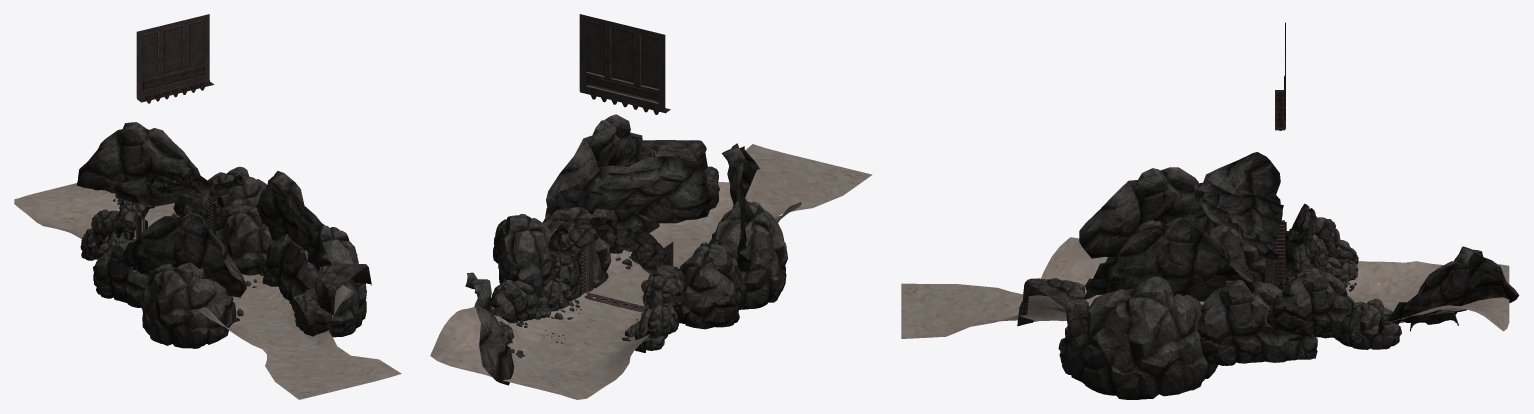
The model's file is env_tat_jthgl_p03_pre.glb.
3 renders of one model, left to right at view 1: azimuth 30°, elevation 25°; view 2: azimuth 150°, elevation 25°; view 3: azimuth 270°, elevation 25°, orthographic. The views are drawn at different scales.
Parts seen in each view (by area): view 1: tat_ranc_ground_01b_mesh, tat_ranc_rock_01 (1), tat_ranc_gate_01, tat_ranc_rockcave (1), tat_ranc_rockcave (7), tat_ranc_rock_01 (5), tat_ranc_ground_01c_mesh, tat_ranc_rockcave (5), tat_ranc_rock_01 (6), tat_ranc_rockcave (6), tat_ranc_rock_01 (2), tat_ranc_rockarch (+5 smaller); view 2: tat_ranc_ground_01b_mesh, tat_ranc_ground_01c_mesh, tat_ranc_rockcave (6), tat_ranc_gate_01, tat_ranc_ground_01a_mesh, tat_ranc_rockarch, tat_ranc_rock_01 (1), tat_ranc_rock_01 (2), tat_ranc_rockcave (5), tat_ranc_rock_01 (9), tat_ranc_rockcave (7), tat_ranc_rockcave (1) (+9 smaller); view 3: tat_ranc_rock_01 (5), tat_ranc_ground_01b_mesh, tat_ranc_rockcave (5), tat_ranc_rock_01 (6), tat_ranc_rockcave (1), tat_ranc_rockcave (6), tat_ranc_rockcave (7), tat_ranc_rock_01 (9), tat_ranc_ground_01c_mesh, tat_ranc_rockarch, tat_ranc_rock_01 (8), tat_ranc_rock_02 (4) (+4 smaller).
Boxes of the visible parts, x1=… form: tat_ranc_ground_01b_mesh: x1=198, y1=274, x2=401, y2=399; tat_ranc_rock_01 (1): x1=140, y1=263, x2=236, y2=348; tat_ranc_gate_01: x1=136, y1=14, x2=214, y2=103; tat_ranc_rockcave (1): x1=115, y1=213, x2=246, y2=297; tat_ranc_rockcave (7): x1=76, y1=122, x2=200, y2=193; tat_ranc_rock_01 (5): x1=262, y1=223, x2=366, y2=337; tat_ranc_ground_01c_mesh: x1=14, y1=183, x2=175, y2=238; tat_ranc_rockcave (5): x1=256, y1=171, x2=331, y2=270; tat_ranc_rock_01 (6): x1=216, y1=205, x2=273, y2=276; tat_ranc_rockcave (6): x1=114, y1=175, x2=243, y2=211; tat_ranc_rock_01 (2): x1=93, y1=239, x2=148, y2=307; tat_ranc_rockarch: x1=97, y1=172, x2=227, y2=259; tat_ranc_ground_01b_mesh: x1=607, y1=144, x2=872, y2=279; tat_ranc_ground_01c_mesh: x1=430, y1=306, x2=645, y2=399; tat_ranc_rockcave (6): x1=554, y1=156, x2=714, y2=223; tat_ranc_gate_01: x1=579, y1=14, x2=670, y2=114; tat_ranc_ground_01a_mesh: x1=517, y1=270, x2=649, y2=349; tat_ranc_rockarch: x1=539, y1=217, x2=670, y2=339; tat_ranc_rock_01 (1): x1=708, y1=200, x2=787, y2=309; tat_ranc_rock_01 (2): x1=676, y1=244, x2=746, y2=329; tat_ranc_rockcave (5): x1=546, y1=114, x2=651, y2=215; tat_ranc_rock_01 (9): x1=493, y1=214, x2=555, y2=298; tat_ranc_rockcave (7): x1=465, y1=272, x2=514, y2=385; tat_ranc_rockcave (1): x1=722, y1=143, x2=759, y2=271; tat_ranc_rock_01 (5): x1=1058, y1=276, x2=1217, y2=399; tat_ranc_ground_01b_mesh: x1=901, y1=237, x2=1204, y2=338; tat_ranc_rockcave (5): x1=1085, y1=217, x2=1254, y2=301; tat_ranc_rock_01 (6): x1=1196, y1=278, x2=1317, y2=365; tat_ranc_rockcave (1): x1=1079, y1=167, x2=1220, y2=258; tat_ranc_rockcave (6): x1=1194, y1=152, x2=1283, y2=259; tat_ranc_rockcave (7): x1=1378, y1=246, x2=1519, y2=334; tat_ranc_rock_01 (9): x1=1266, y1=267, x2=1354, y2=336; tat_ranc_ground_01c_mesh: x1=1367, y1=261, x2=1509, y2=331; tat_ranc_rockarch: x1=1277, y1=203, x2=1343, y2=338; tat_ranc_rock_01 (8): x1=1332, y1=298, x2=1401, y2=349; tat_ranc_rock_02 (4): x1=1022, y1=278, x2=1088, y2=338.
Size of the model in its own units: 35.14 by 42.96 by 79.69.
6 materials, 6 textured.
